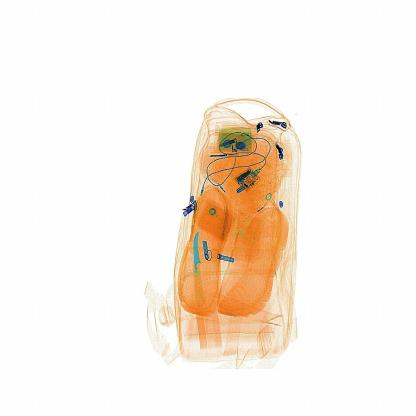wrench: (190, 226, 205, 298)
